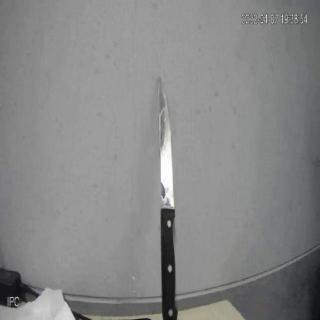knife: (151, 63, 187, 320)
